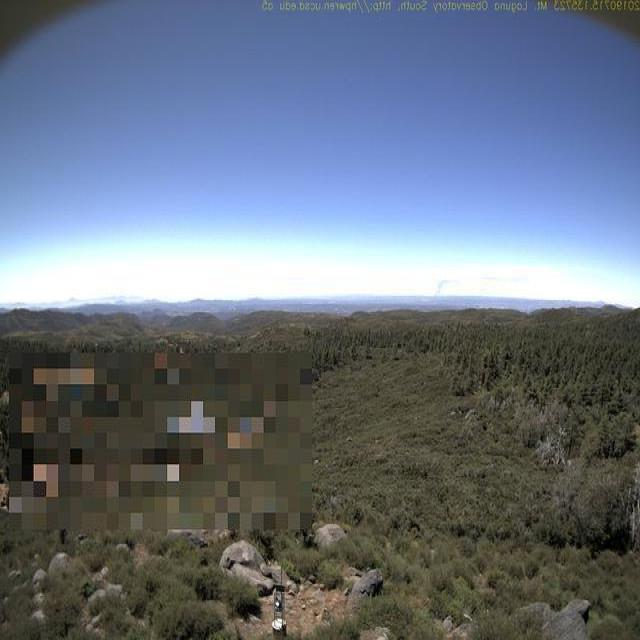Smoke: (432, 277, 454, 296)
